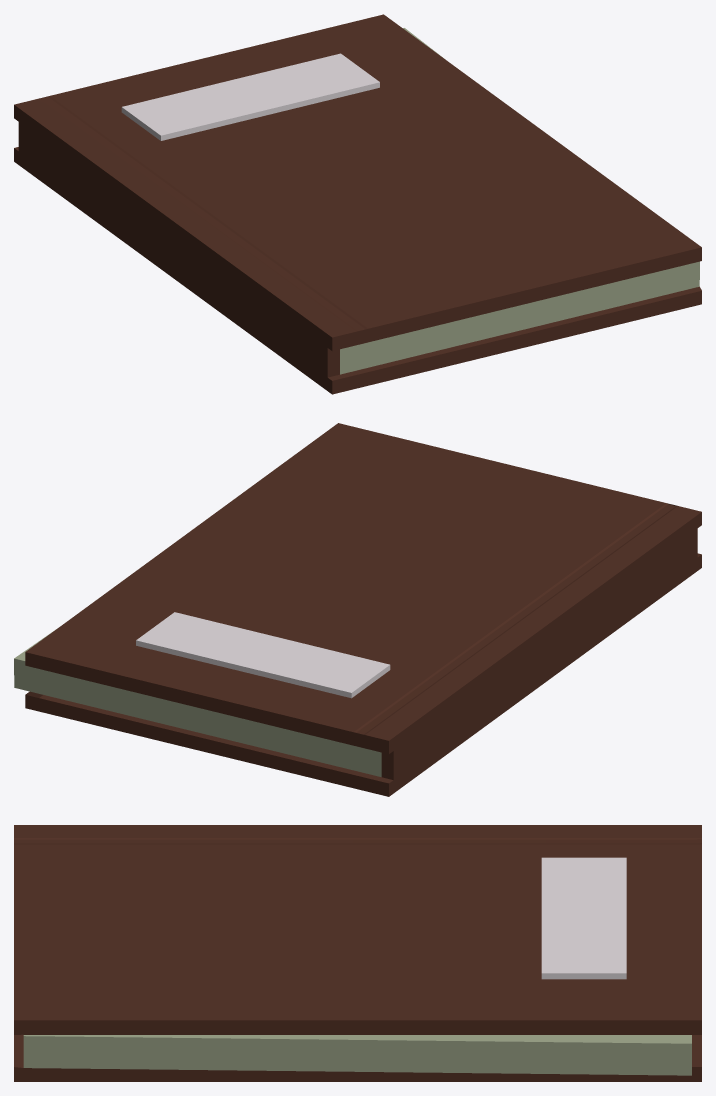
Rendered from Notebook.fbx.
The picture shows the model from 3 angles, top to bottom: view 1: azimuth 30°, elevation 25°; view 2: azimuth 150°, elevation 25°; view 3: azimuth 270°, elevation 25°; orthographic projection. The views are drawn at different scales.
Parts seen in each view (by area): view 1: Book, Cover book; view 2: Book, Cover book; view 3: Book, Cover book.
Part boxes in pixels (bbox=[...]): Book: bbox=[14, 14, 701, 394]; Cover book: bbox=[121, 53, 379, 140]; Book: bbox=[14, 423, 701, 796]; Cover book: bbox=[136, 612, 390, 698]; Book: bbox=[14, 825, 701, 1081]; Cover book: bbox=[541, 857, 626, 979].
Size of the model in its own units: 144 by 22.29 by 206.
